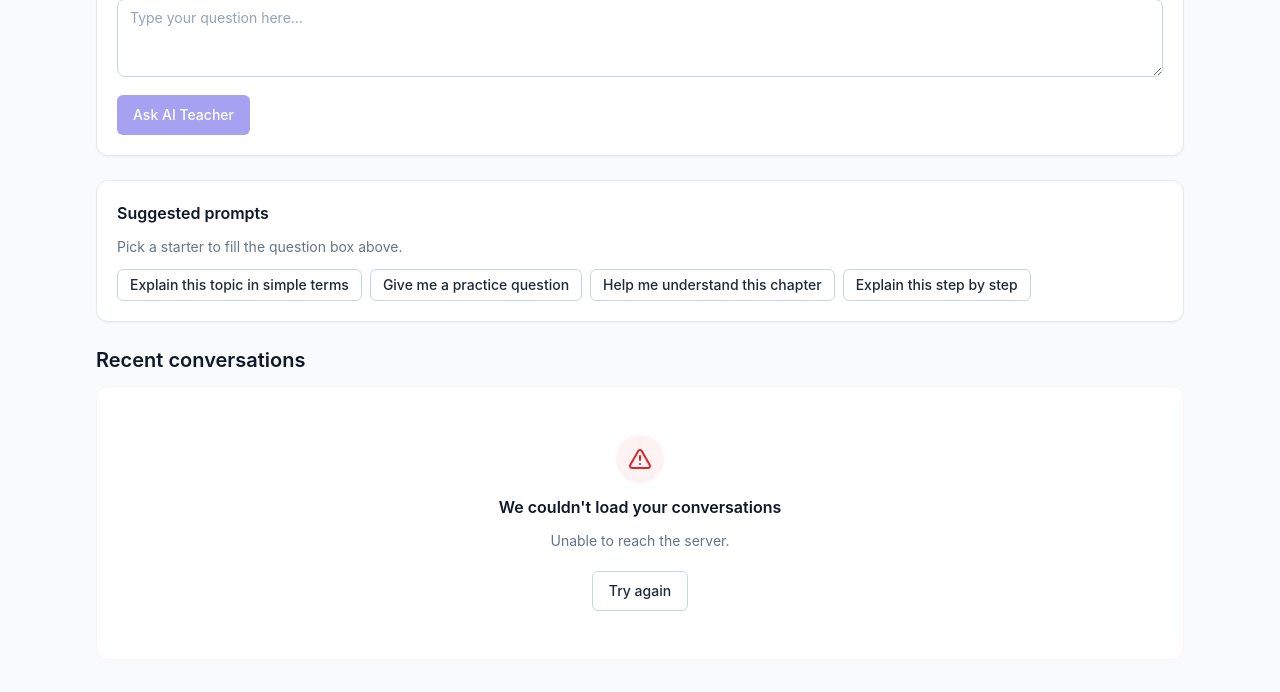
Test: AI Teacher landing (AiTeacherPage) › shows an error state with retry when history fails
(page scrolled)
Check: the message "We couldn't load your conversations Unable to reach the server. Try again" is shown, box top-left (96, 386), bottom-right (1184, 660)
Click the button "Try again" at (640,591), box top-left (592, 571), bottom-right (688, 611)
(page scrolled)
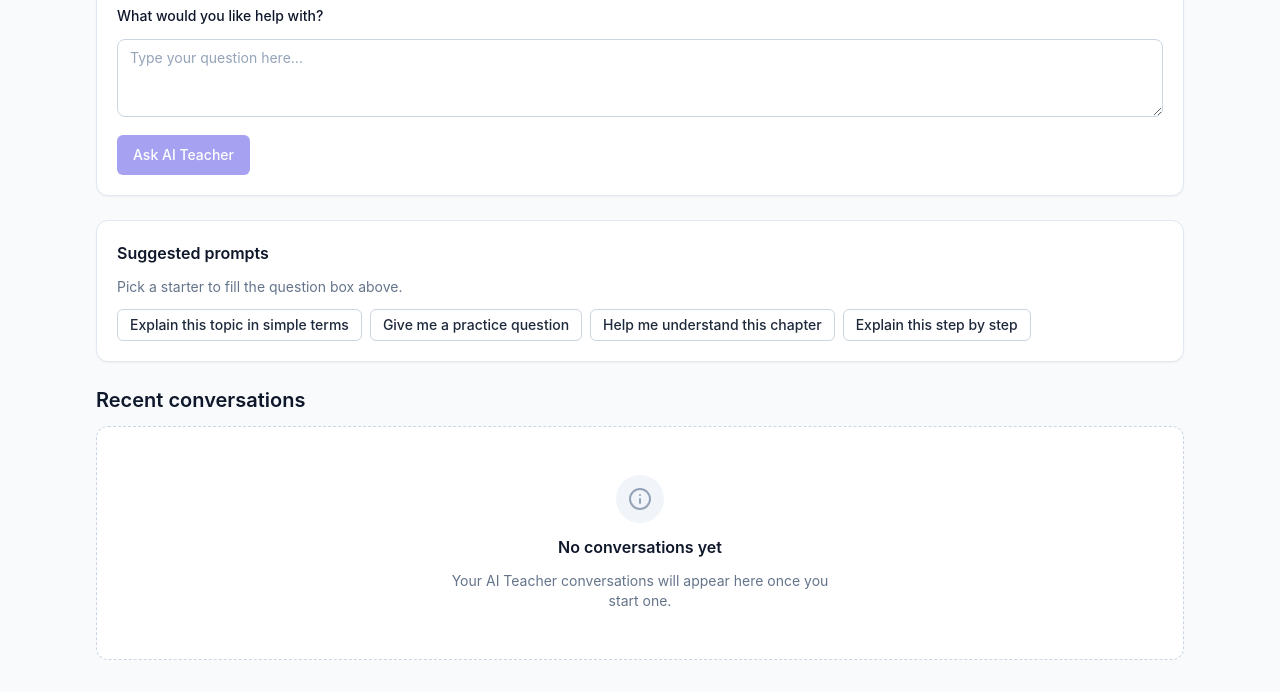
Check: the heading "No conversations yet" is shown, box top-left (558, 535), bottom-right (722, 559)
